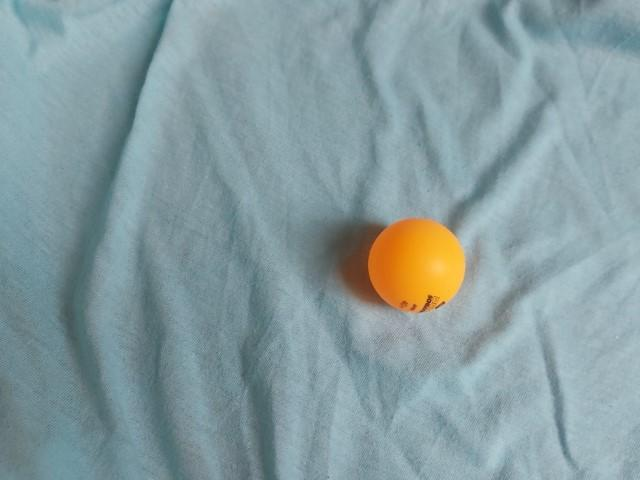oball: (359, 213, 473, 324)
